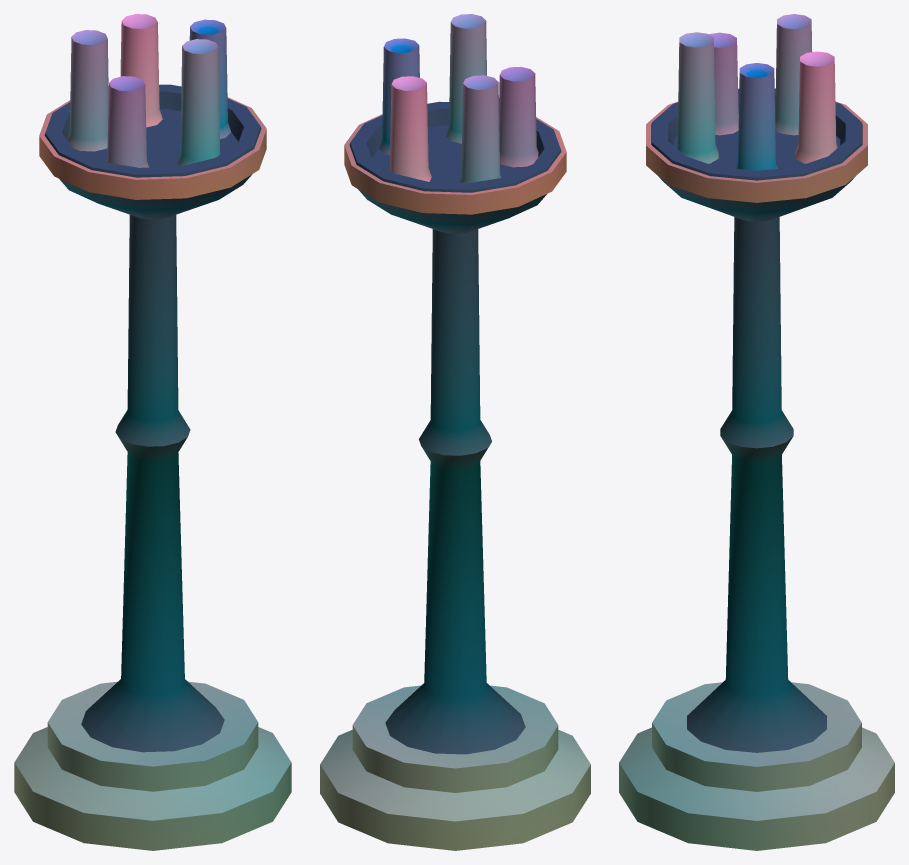
File: votive_stand_cold.glb
3 renders of one model, left to right at view 1: azimuth 30°, elevation 25°; view 2: azimuth 150°, elevation 25°; view 3: azimuth 270°, elevation 25°, orthographic. The views are drawn at different scales.
Visible parts, largest first — view 1: votive_col, votive_socle, votive_gilt, cand4, cand2, cand3, cand1, cand0; view 2: votive_col, votive_socle, votive_gilt, cand2, cand1, cand3, cand4, cand0; view 3: votive_col, votive_socle, votive_gilt, cand4, cand1, cand0, cand2, cand3.
Part boxes in pixels (x1=…): votive_col: x1=44, y1=84, x2=261, y2=752; votive_socle: x1=14, y1=681, x2=291, y2=850; votive_gilt: x1=39, y1=84, x2=266, y2=199; cand4: x1=177, y1=39, x2=220, y2=166; cand2: x1=68, y1=30, x2=108, y2=151; cand3: x1=106, y1=76, x2=149, y2=167; cand1: x1=120, y1=14, x2=162, y2=127; cand0: x1=189, y1=19, x2=230, y2=138; votive_col: x1=349, y1=102, x2=561, y2=754; votive_socle: x1=320, y1=685, x2=590, y2=850; votive_gilt: x1=344, y1=101, x2=566, y2=214; cand2: x1=459, y1=75, x2=501, y2=183; cand1: x1=389, y1=76, x2=431, y2=181; cand3: x1=499, y1=66, x2=538, y2=167; cand4: x1=446, y1=14, x2=486, y2=143; cand0: x1=379, y1=38, x2=419, y2=154; votive_col: x1=651, y1=88, x2=862, y2=752; votive_socle: x1=619, y1=682, x2=894, y2=850; votive_gilt: x1=646, y1=101, x2=867, y2=202; cand4: x1=676, y1=32, x2=718, y2=163; cand1: x1=795, y1=51, x2=837, y2=163; cand0: x1=736, y1=63, x2=777, y2=170; cand2: x1=775, y1=14, x2=812, y2=135; cand3: x1=708, y1=32, x2=738, y2=135.
Bounding box in the file's own units: 0.5 × 1.52 × 0.5.
